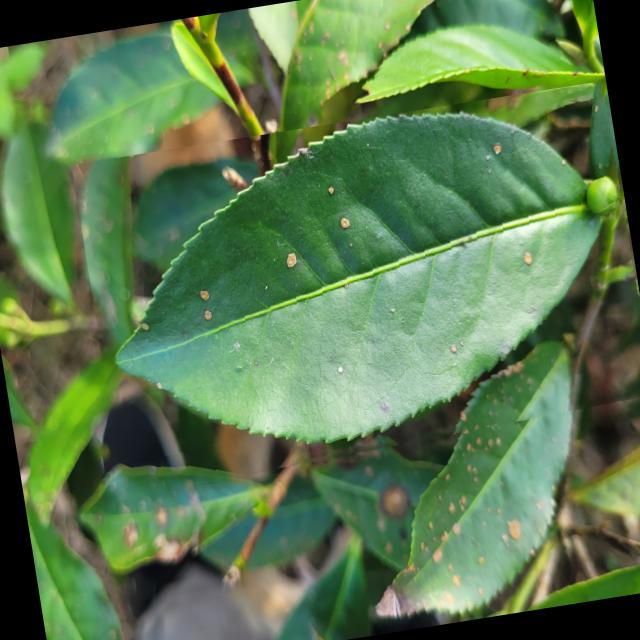Category D(7+ days, Not for Tea): (71, 79, 640, 497)
